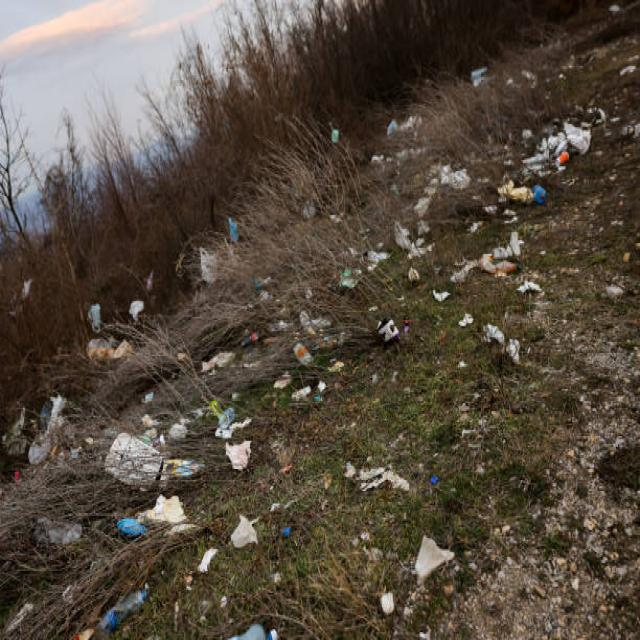metal: (554, 152, 569, 168)
plastic: (100, 592, 148, 624), (294, 342, 312, 367)
